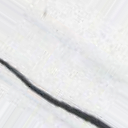crackTip: (1, 56, 118, 128)
